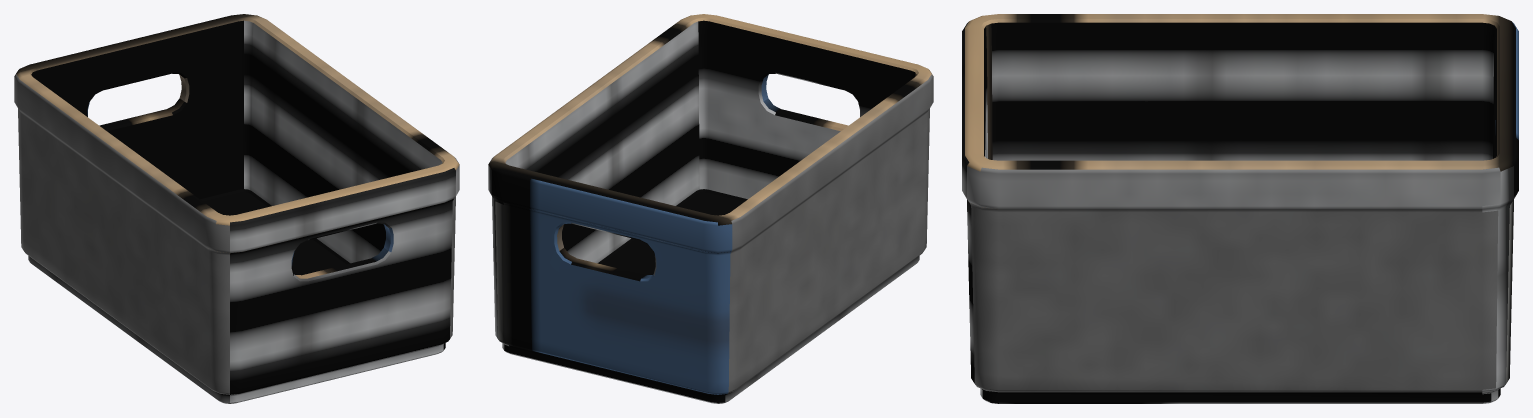
The model's file is SmallLoadCarrier_300x200x147.fbx.
3 renders of one model, left to right at view 1: azimuth 30°, elevation 25°; view 2: azimuth 150°, elevation 25°; view 3: azimuth 270°, elevation 25°, orthographic. The views are drawn at different scales.
Parts seen in each view (by area): view 1: SmallLoadCarrier_300x200x147_LOD0; view 2: SmallLoadCarrier_300x200x147_LOD0; view 3: SmallLoadCarrier_300x200x147_LOD0.
Part boxes in pixels (x1=…): SmallLoadCarrier_300x200x147_LOD0: x1=14, y1=14, x2=459, y2=403; SmallLoadCarrier_300x200x147_LOD0: x1=488, y1=14, x2=933, y2=403; SmallLoadCarrier_300x200x147_LOD0: x1=962, y1=14, x2=1518, y2=403.
Size of what is drawn, in the model's own units: 0.204 by 0.147 by 0.304.
